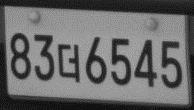3: (33, 32, 55, 82)
4: (133, 39, 158, 88)
5: (160, 39, 183, 89), (110, 36, 132, 85)
6: (84, 35, 107, 84)
8: (10, 31, 31, 81)
더: (56, 42, 81, 83)
